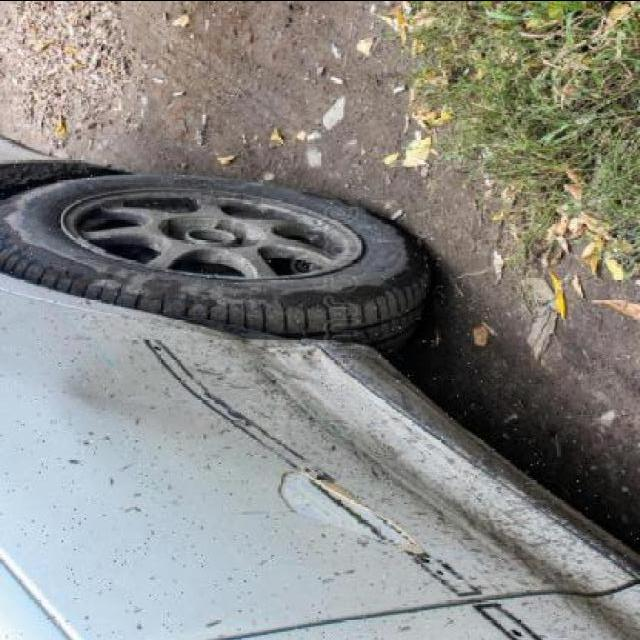doorouter-dent: (1, 298, 513, 637)
